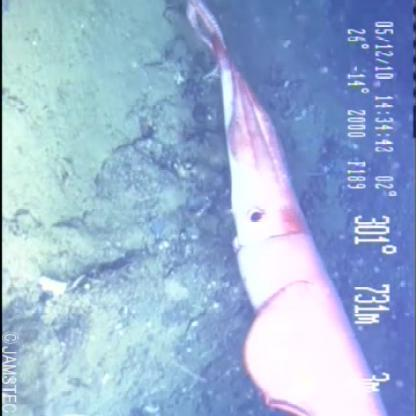Bio: (180, 1, 390, 415)
